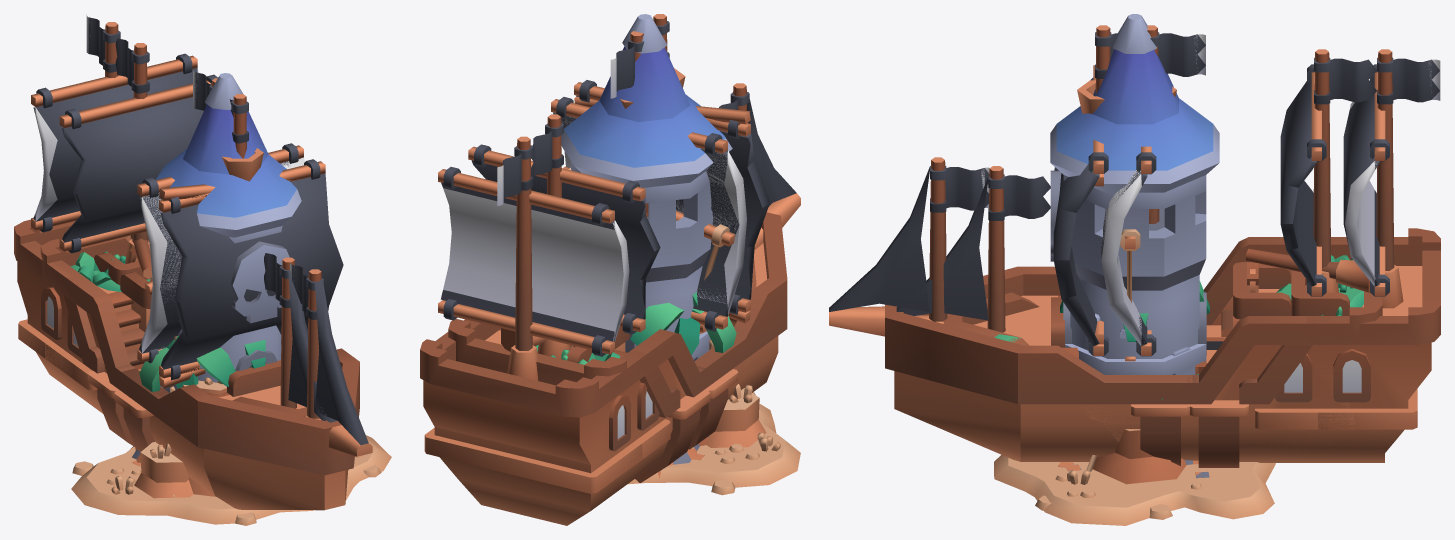
File: Pirate.glb
The picture shows the model from 3 angles, left to right: view 1: azimuth 30°, elevation 25°; view 2: azimuth 150°, elevation 25°; view 3: azimuth 270°, elevation 25°; orthographic projection. The views are drawn at different scales.
Visible parts, largest first — view 1: ship-pirate-large, sail-a (×4), sail-b (×3), ship-pirate-medium, tower-complete-large, patch-sand-foliage, flag-c (×4), rocks-sand-a, palm-detailed-bend, Group (×2), flag-a; view 2: ship-pirate-large, sail-b (×3), tower-complete-large, sail-a (×5), ship-pirate-medium, patch-sand-foliage, flag-c (×3), rocks-sand-a, palm-detailed-bend; view 3: ship-pirate-large, ship-pirate-medium, tower-complete-large, sail-b (×3), patch-sand-foliage, sail-a (×3), flag-c (×4), rocks-sand-a, ship-wreck, tower-watch, flag-a, Group.
Part boxes in pixels (x1,y1,x2,y2): ship-pirate-large: (14, 22, 372, 510); sail-a (×4): (137, 143, 343, 388); sail-b (×3): (31, 53, 217, 253); ship-pirate-medium: (40, 43, 337, 461); tower-complete-large: (156, 73, 301, 387); patch-sand-foliage: (71, 435, 391, 525); flag-c (×4): (88, 17, 324, 319); rocks-sand-a: (131, 377, 226, 498); palm-detailed-bend: (139, 347, 235, 391); Group (×2): (70, 235, 152, 285); flag-a: (264, 253, 290, 308); ship-pirate-large: (420, 31, 800, 525); sail-b (×3): (438, 144, 660, 356); tower-complete-large: (561, 14, 732, 352); sail-a (×5): (551, 80, 769, 332); ship-pirate-medium: (448, 14, 763, 490); patch-sand-foliage: (628, 392, 800, 495); flag-c (×3): (503, 38, 644, 198); rocks-sand-a: (694, 330, 766, 460); palm-detailed-bend: (630, 302, 736, 355); ship-pirate-large: (829, 25, 1440, 467); ship-pirate-medium: (896, 25, 1382, 466); tower-complete-large: (1050, 14, 1219, 365); sail-b (×3): (1280, 64, 1389, 296); patch-sand-foliage: (994, 455, 1275, 525); sail-a (×3): (1050, 78, 1156, 356); flag-c (×4): (930, 32, 1439, 212); rocks-sand-a: (1057, 429, 1186, 484); ship-wreck: (994, 316, 1358, 460); tower-watch: (1065, 344, 1206, 374); flag-a: (988, 174, 1050, 220); Group: (1246, 248, 1370, 293).
Size of the model in its own units: 7.74 by 10.56 by 13.1.
Materials: 1 (1 with a texture image).
